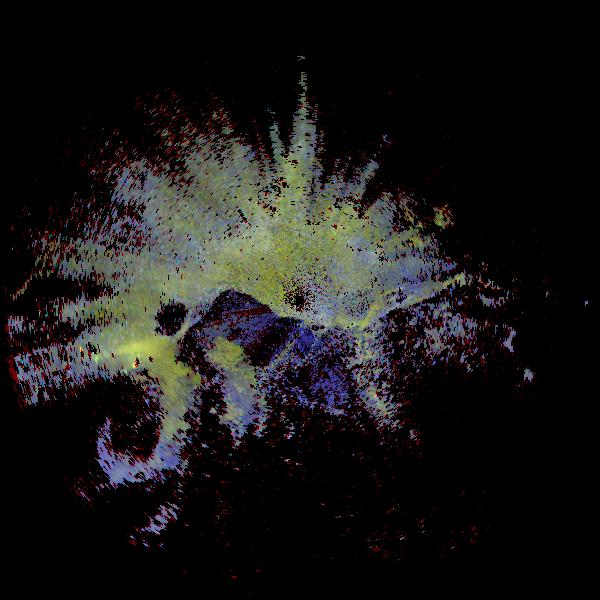roost: (38, 329, 209, 500), (129, 323, 267, 461)
